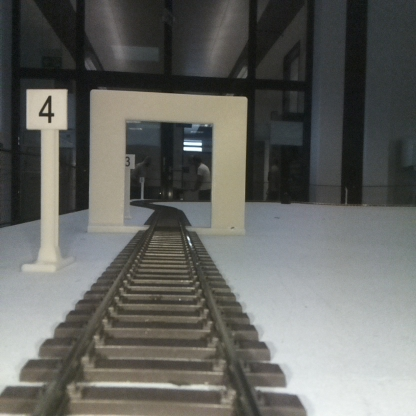white-info-3: (124, 153, 134, 217)
white-info-4: (27, 90, 67, 270)
